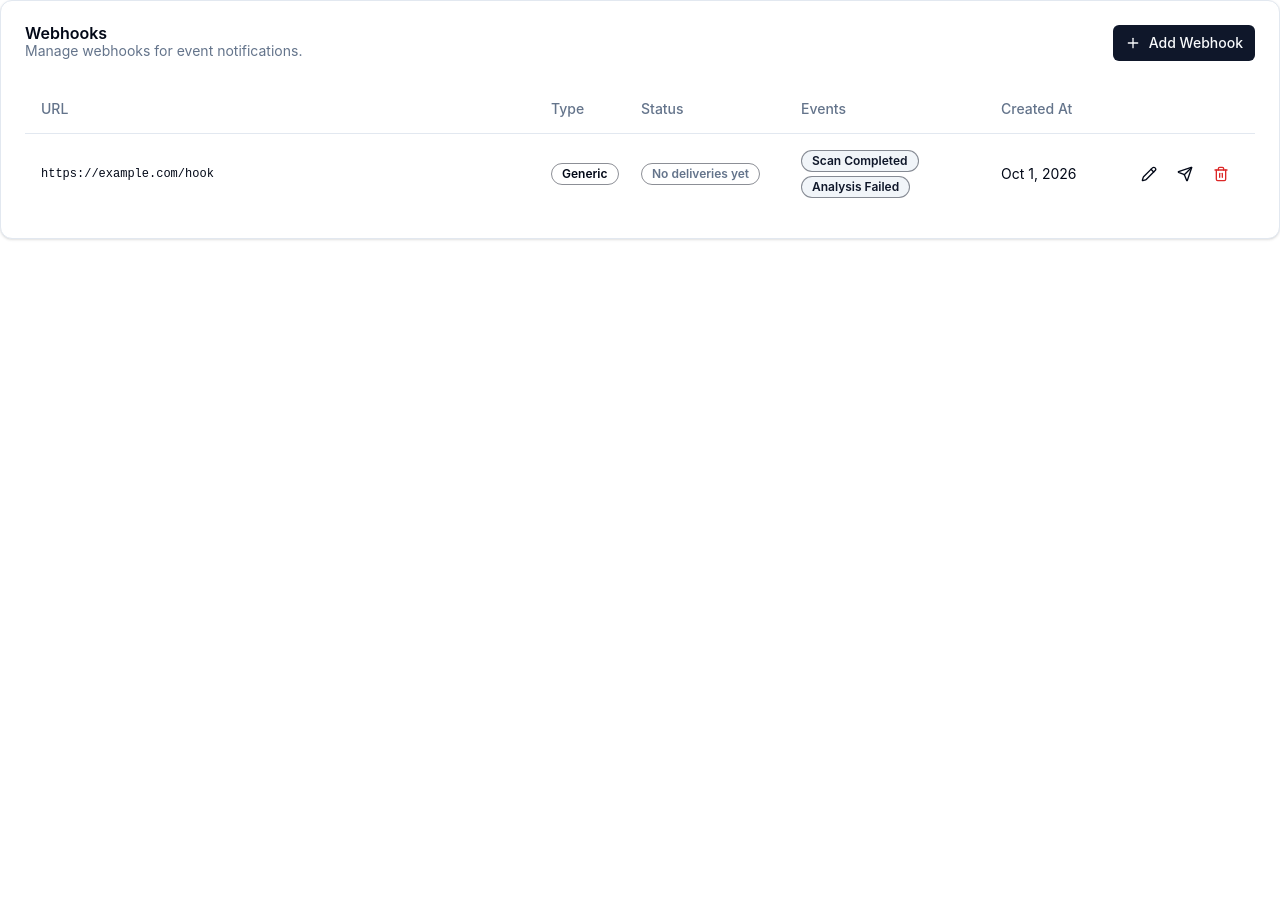
it: WebhookManager › editing a webhook › offers the JSON opt-out only while the URL is a Teams URL
The width and height of the screenshot is (1280, 900).
Step 1. Click the button named "Edit webhook" → (1149, 174), box [1131, 154, 1167, 194]
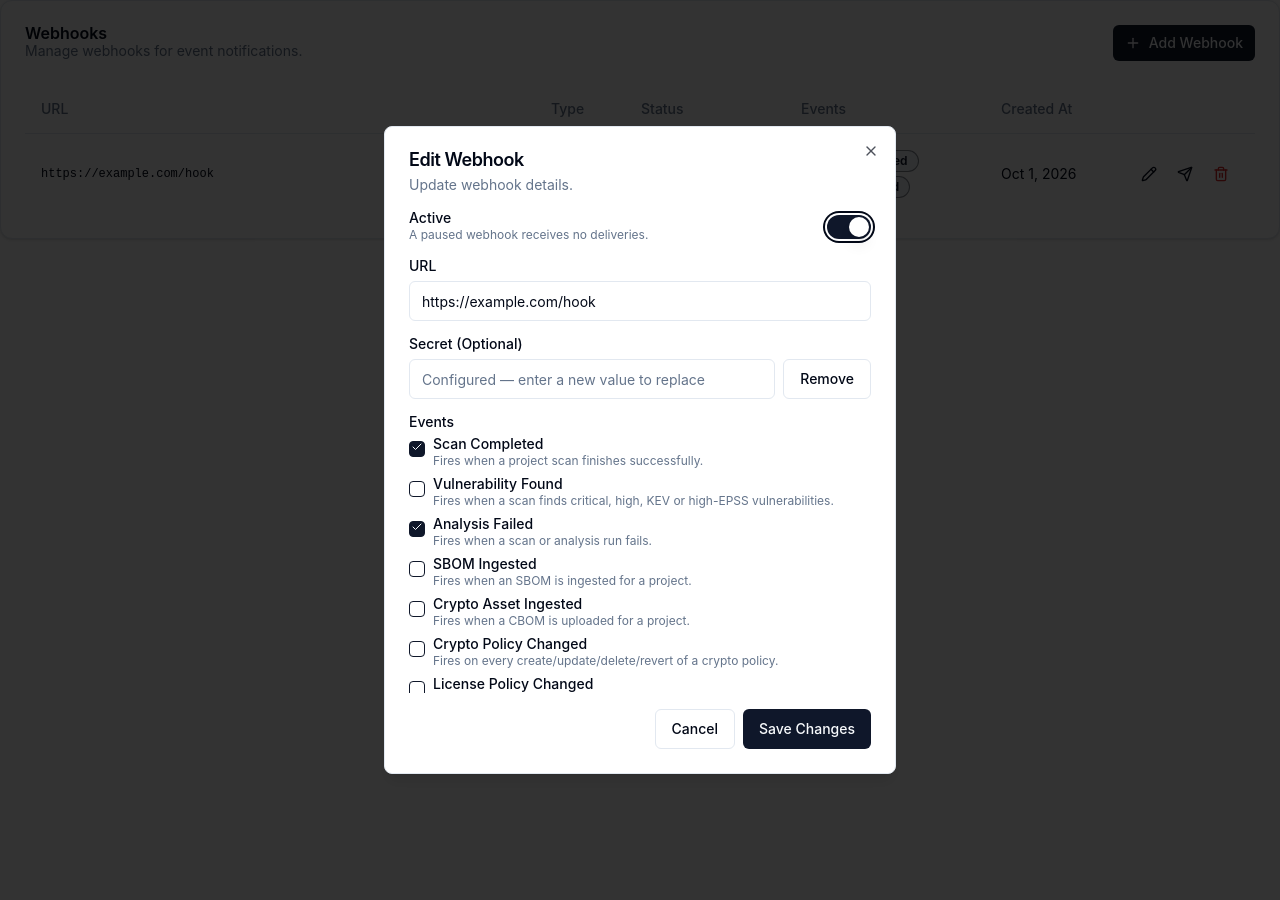
Step 2. Replace the text in the field labelled "URL" with "https://contoso.webhook.office.com/webhookb2/abc" → (640, 301), box [409, 281, 871, 321]
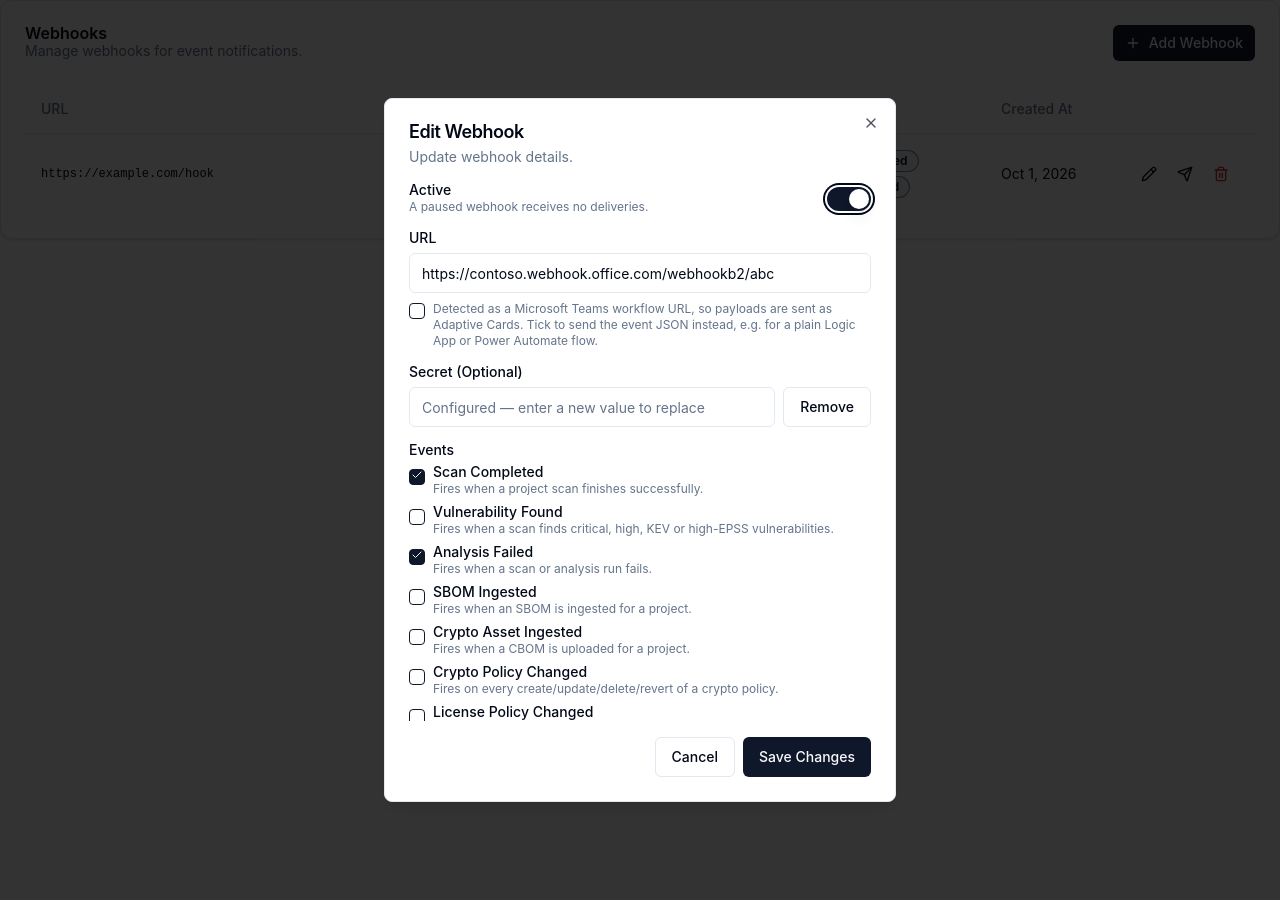
Now the checkbox named "send the event JSON instead" is shown, box [409, 303, 425, 319]
